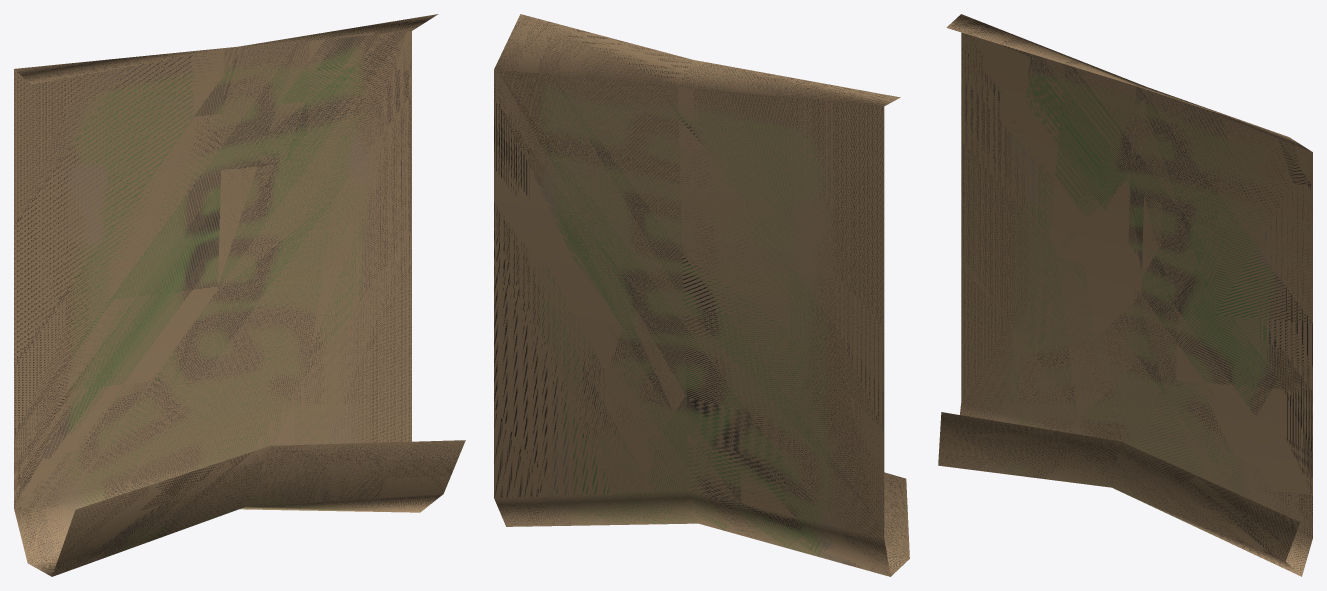
File: SM_Prop_Sign_Poster_14.fbx
3 views of the same model, side by side, from view 1: azimuth 30°, elevation 25°; view 2: azimuth 150°, elevation 25°; view 3: azimuth 330°, elevation 25° (orthographic). The views are drawn at different scales.
Parts seen in each view (by area): view 1: SM_Prop_Sign_Poster_14; view 2: SM_Prop_Sign_Poster_14; view 3: SM_Prop_Sign_Poster_14.
Part boxes in pixels (left/top/right/bottom): SM_Prop_Sign_Poster_14: left=14, top=14, right=465, bottom=576; SM_Prop_Sign_Poster_14: left=494, top=14, right=909, bottom=576; SM_Prop_Sign_Poster_14: left=938, top=14, right=1312, bottom=576.
Bounding box in the file's own units: 43.52 × 53.06 × 7.56.
